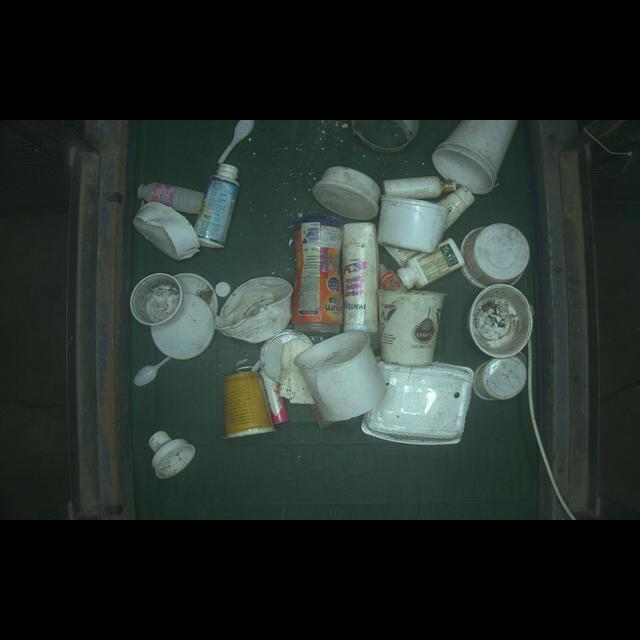mix PP: (293, 218, 348, 333), (339, 217, 382, 331), (216, 362, 272, 443), (196, 157, 238, 251), (131, 274, 185, 326)
